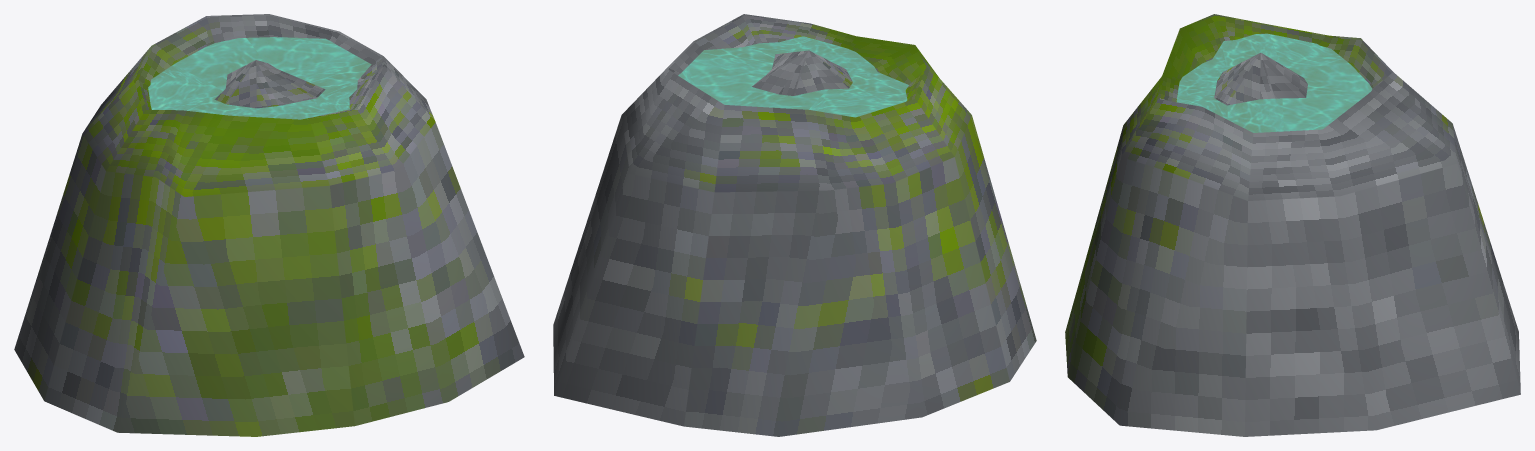
Rendered from fountain.obj.
3 views of the same model, side by side, from view 1: azimuth 30°, elevation 25°; view 2: azimuth 150°, elevation 25°; view 3: azimuth 270°, elevation 25° (orthographic). The views are drawn at different scales.
Visible parts, largest first — view 1: Sphere01, Plane02; view 2: Sphere01, Plane02; view 3: Sphere01, Plane02.
Part boxes in pixels (x1,y1,x2,y2): Sphere01: [14, 14, 524, 436]; Plane02: [148, 37, 371, 119]; Sphere01: [553, 14, 1036, 436]; Plane02: [678, 36, 908, 117]; Sphere01: [1065, 14, 1520, 436]; Plane02: [1176, 33, 1372, 132].
Bounding box in the file's own units: 45.3 × 29.35 × 43.12.
